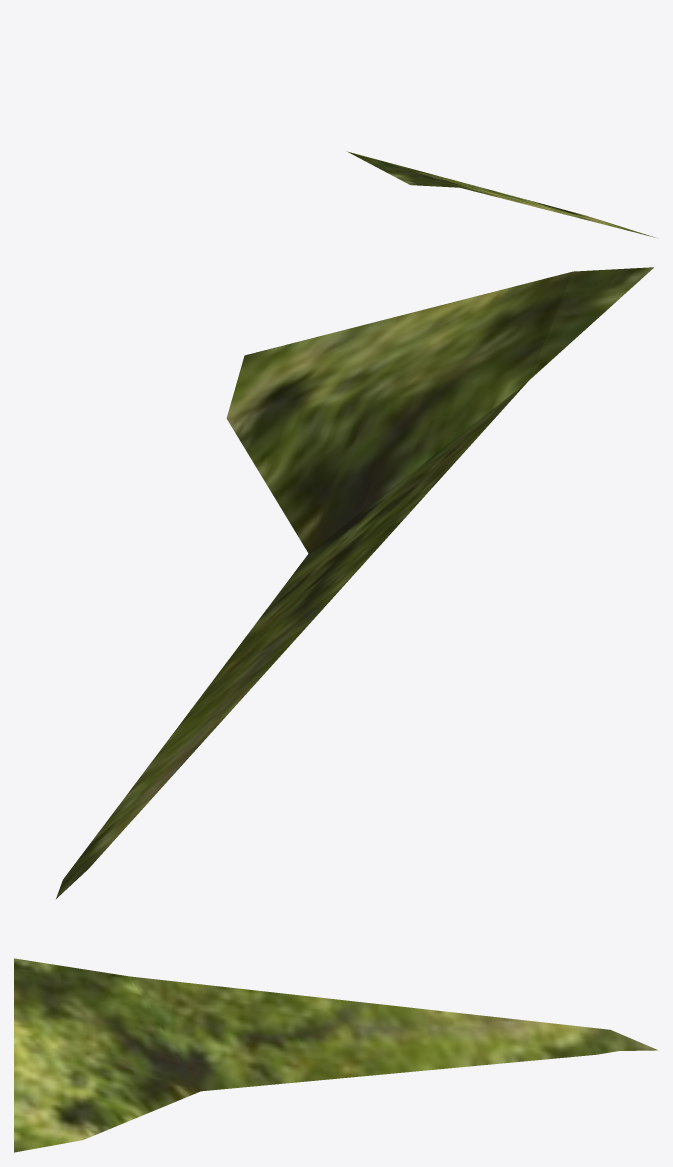
3 views of the same model, one above another, from view 1: azimuth 30°, elevation 25°; view 2: azimuth 150°, elevation 25°; view 3: azimuth 270°, elevation 25° (orthographic). The views are drawn at different scales.
Bounding box in the file's own units: 0.9006 × 0.3679 × 2.28.
1 material, 1 textured.
